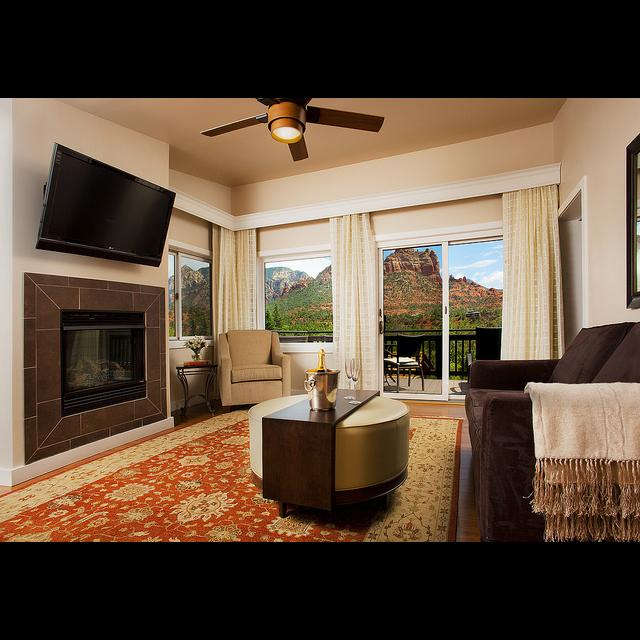Flat-Panel-TV: (32, 141, 178, 268)
